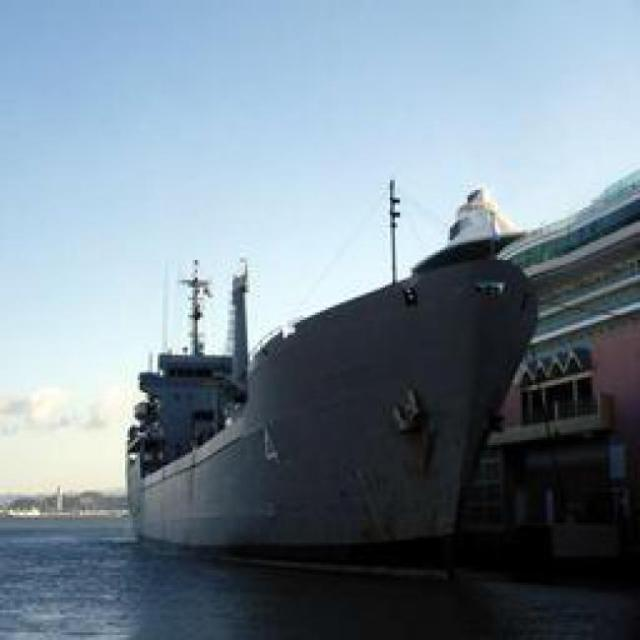boat: (108, 308, 518, 571)
